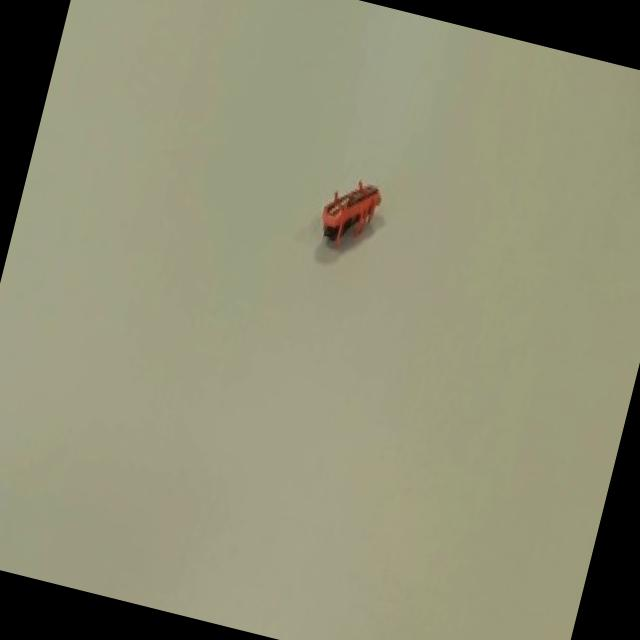7_NanoBug_Naranja: (279, 154, 418, 286)
